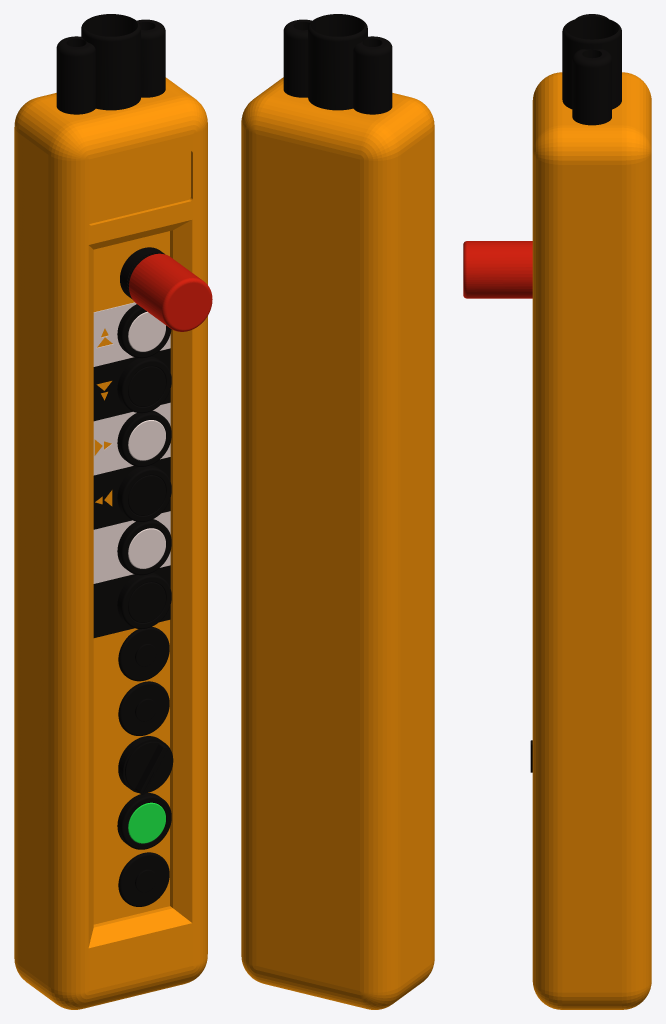
Rendered from Ensamblaje Control Grúa 2.fbx.
The picture shows the model from 3 angles, left to right: view 1: azimuth 30°, elevation 25°; view 2: azimuth 150°, elevation 25°; view 3: azimuth 270°, elevation 25°; orthographic projection.
Visible parts, largest first — view 1: EnsamblajeControl___Control_1, EnsamblajeControl___Superior_control_1, EnsamblajeControl___Boton_stop_2_1, EnsamblajeControl___Perilla_1, EnsamblajeControl___Tapón_1_2, EnsamblajeControl___Tapón_1_1, EnsamblajeControl___Tapón_1, EnsamblajeControl___Flecha_diagonal_derecha_2, EnsamblajeControl___Flecha_diagonal_derecha_1, EnsamblajeControl___Flecha_a_la_izquierda_1, EnsamblajeControl___Flecha_abajo_1, EnsamblajeControl___Flecha_a_la_derecha_1 (+16 smaller); view 2: EnsamblajeControl___Control_1, EnsamblajeControl___Superior_control_1; view 3: EnsamblajeControl___Control_1, EnsamblajeControl___Superior_control_1, EnsamblajeControl___Boton_stop_2_1.
Part boxes in pixels (box(x1,y1,x2,y2)): EnsamblajeControl___Control_1: box(14, 77, 207, 1009); EnsamblajeControl___Superior_control_1: box(56, 14, 165, 114); EnsamblajeControl___Boton_stop_2_1: box(129, 253, 212, 331); EnsamblajeControl___Perilla_1: box(118, 736, 173, 794); EnsamblajeControl___Tapón_1_2: box(118, 852, 169, 906); EnsamblajeControl___Tapón_1_1: box(118, 681, 169, 735); EnsamblajeControl___Tapón_1: box(118, 627, 169, 681); EnsamblajeControl___Flecha_diagonal_derecha_2: box(93, 565, 170, 637); EnsamblajeControl___Flecha_diagonal_derecha_1: box(93, 511, 170, 583); EnsamblajeControl___Flecha_a_la_izquierda_1: box(93, 457, 170, 529); EnsamblajeControl___Flecha_abajo_1: box(93, 348, 170, 421); EnsamblajeControl___Flecha_a_la_derecha_1: box(93, 402, 170, 475); EnsamblajeControl___Control_1: box(241, 77, 434, 1009); EnsamblajeControl___Superior_control_1: box(283, 14, 392, 114); EnsamblajeControl___Control_1: box(532, 72, 651, 1009); EnsamblajeControl___Superior_control_1: box(562, 14, 621, 125); EnsamblajeControl___Boton_stop_2_1: box(463, 241, 532, 298).
Bounding box in the file's own units: 90 × 530 × 95.
